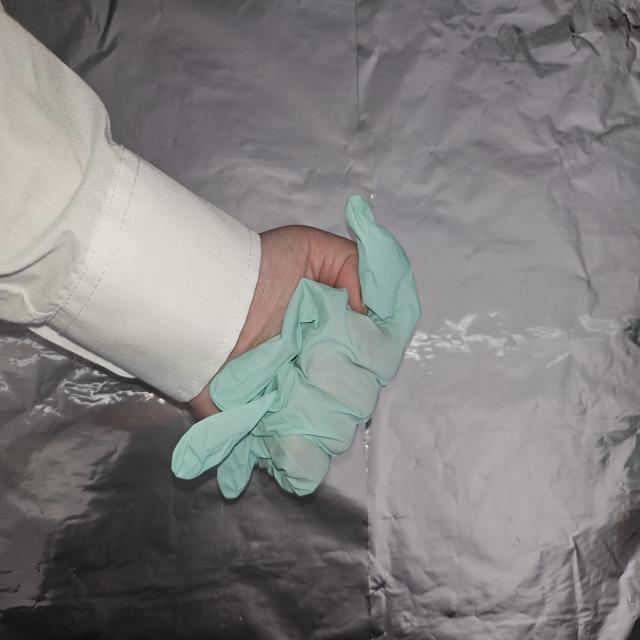glove_partial: (169, 196, 423, 502)
